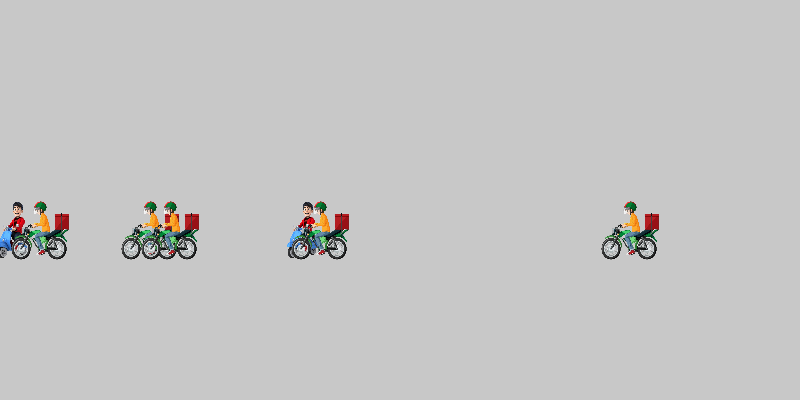helmet: (10, 200, 70, 260), (120, 200, 180, 260), (140, 200, 200, 260), (290, 200, 350, 260), (600, 200, 660, 260)
no_helmet: (275, 200, 335, 260), (0, 200, 45, 260)
